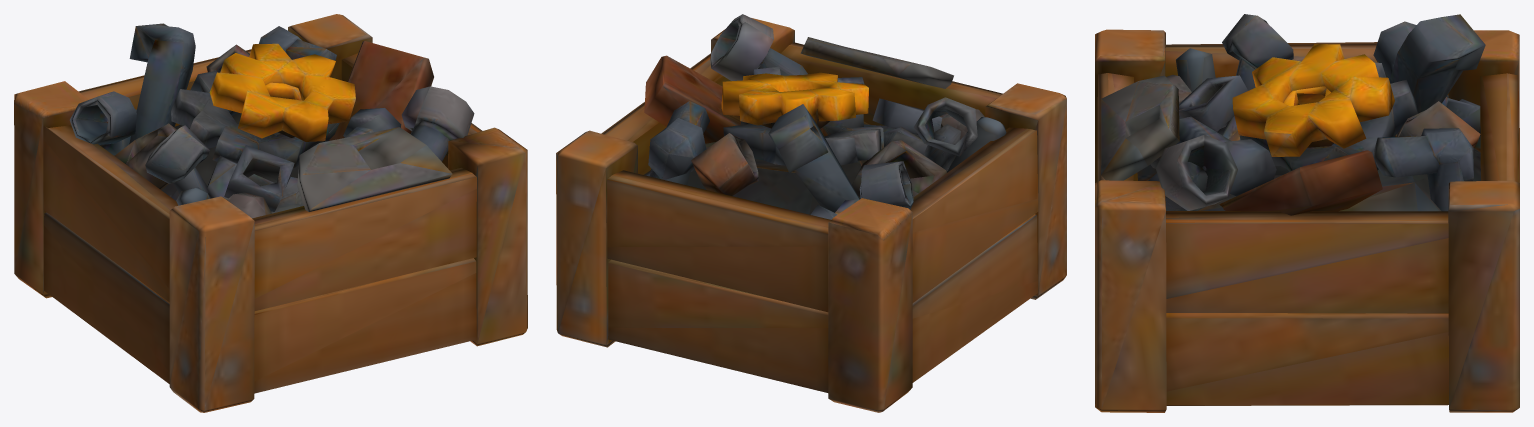
Rendered from scrap.glb.
The picture shows the model from 3 angles, left to right: view 1: azimuth 30°, elevation 25°; view 2: azimuth 150°, elevation 25°; view 3: azimuth 270°, elevation 25°; orthographic projection. The views are drawn at different scales.
Parts seen in each view (by area): view 1: hull; view 2: hull; view 3: hull.
Boxes of the visible parts, x1=… form: hull: x1=14, y1=14, x2=527, y2=412; hull: x1=556, y1=14, x2=1066, y2=412; hull: x1=1095, y1=14, x2=1519, y2=412.
Size of the model in its own units: 1 by 0.732 by 1.
1 material, 1 textured.
